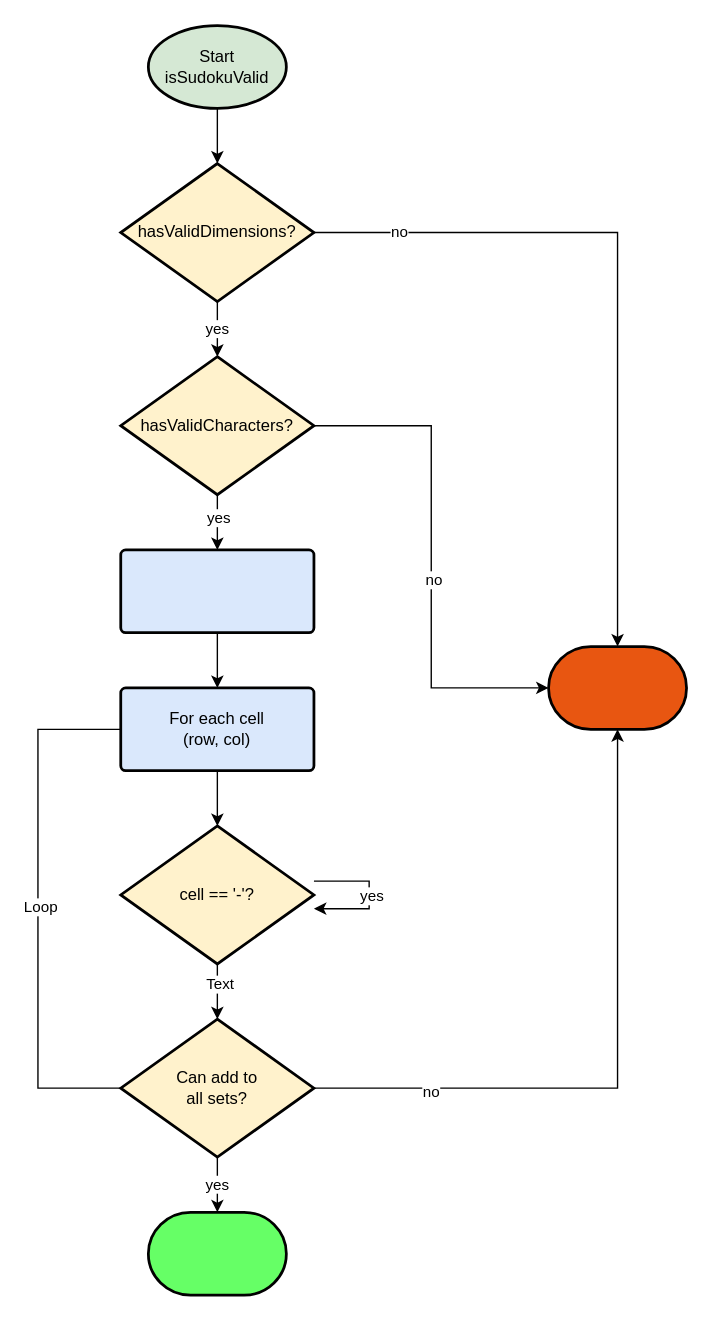
The diagram is 712 pixels wide and 1319 high, and some of its shapes have lost their labels. The centre of each missing label's shape, as x and y in pixels:
"Initialize rowSets, colSets, boxSets" goes at [217,590].
"Return False" goes at [616,687].
"Return True" goes at [216,1253].
